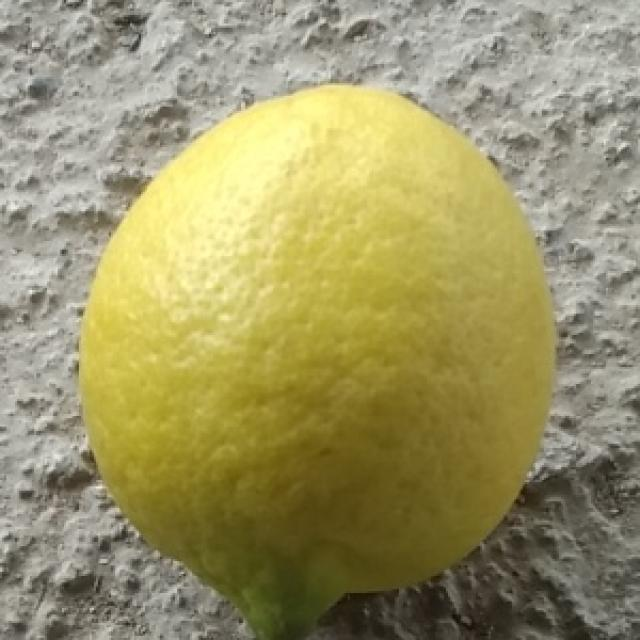Ripe: (71, 74, 562, 636)
